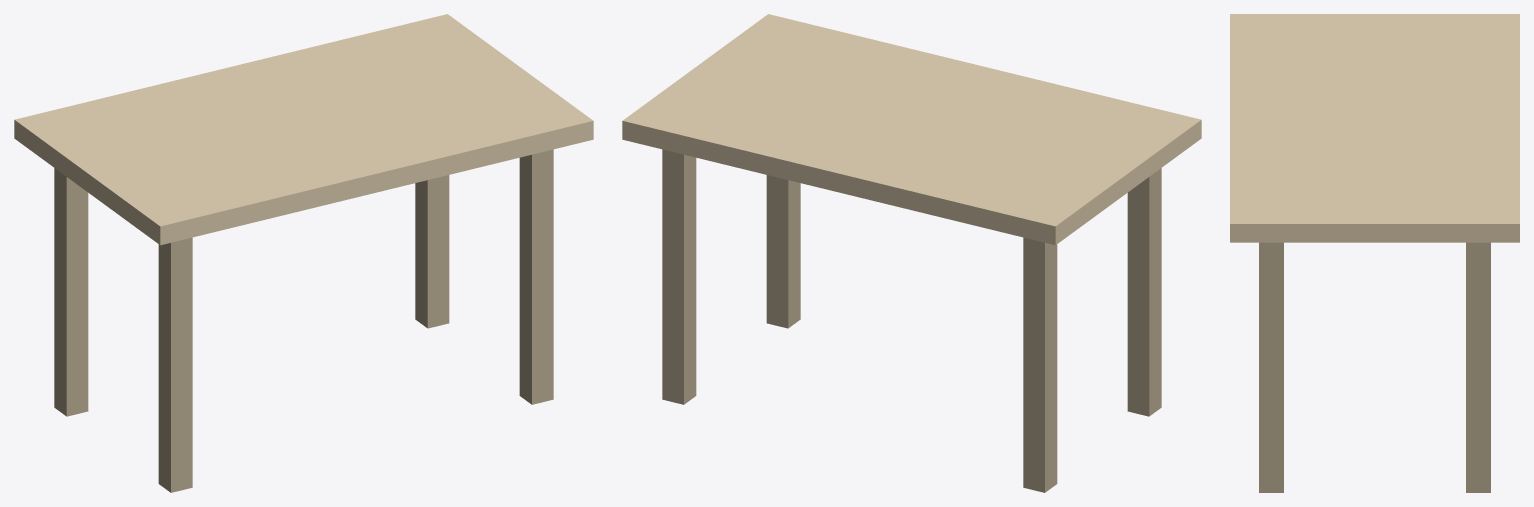
The model's file is mesa-cozinha.glb.
3 renders of one model, left to right at view 1: azimuth 30°, elevation 25°; view 2: azimuth 150°, elevation 25°; view 3: azimuth 270°, elevation 25°, orthographic.
Size of the model in its own units: 1.2 by 0.75 by 0.7.
